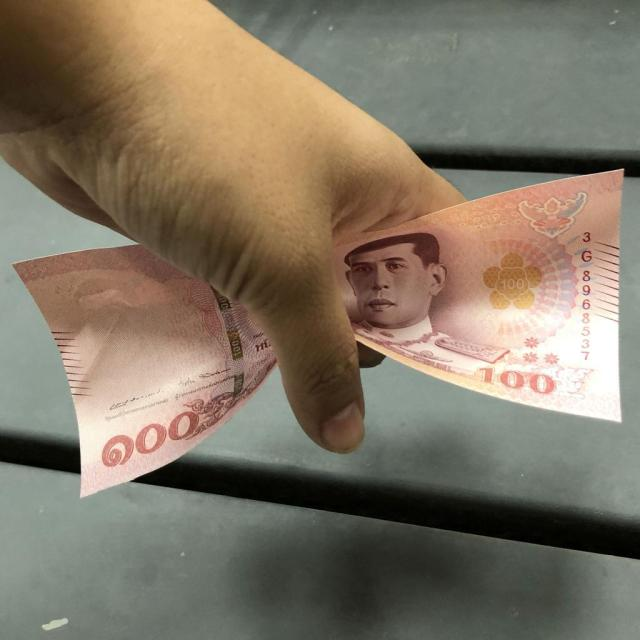THAI100: (344, 171, 624, 424), (14, 246, 276, 498)
